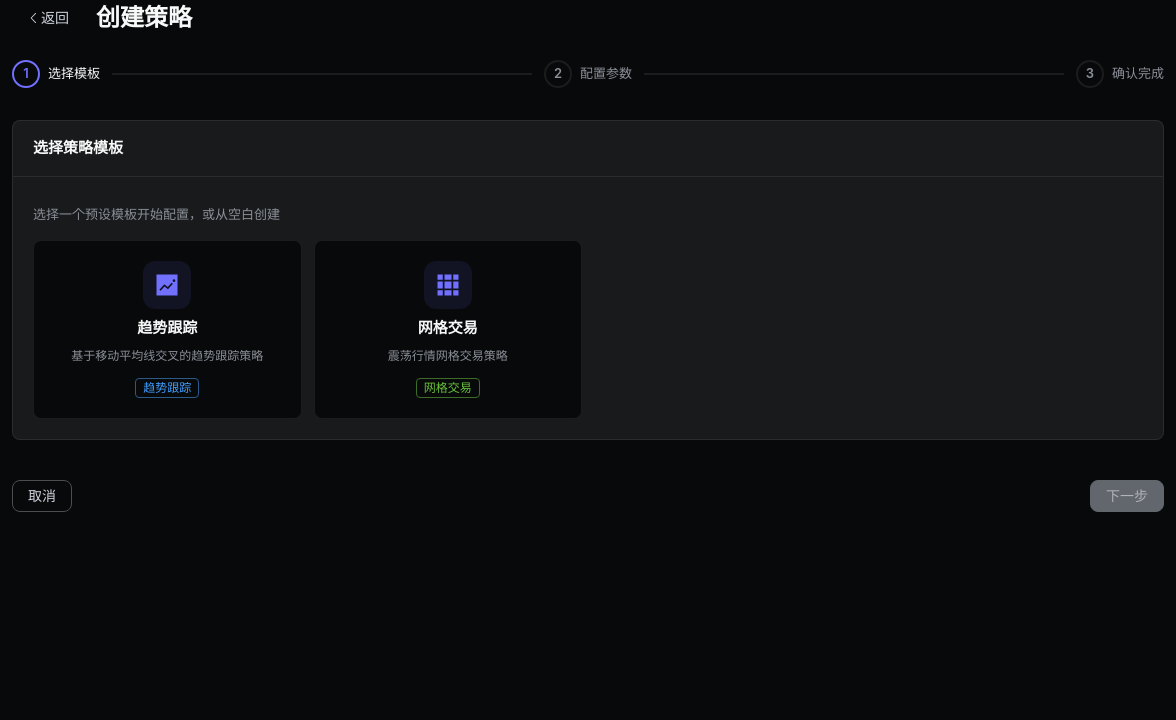
Test case: StrategyCreateView › displays parameter form after selecting a template and advancing to step 2
Click the element with class "template-card" showing "趋势跟踪 基于移动平均线交叉的趋势跟踪策略 趋势跟踪" at (167, 330), box [33,240,302,420]
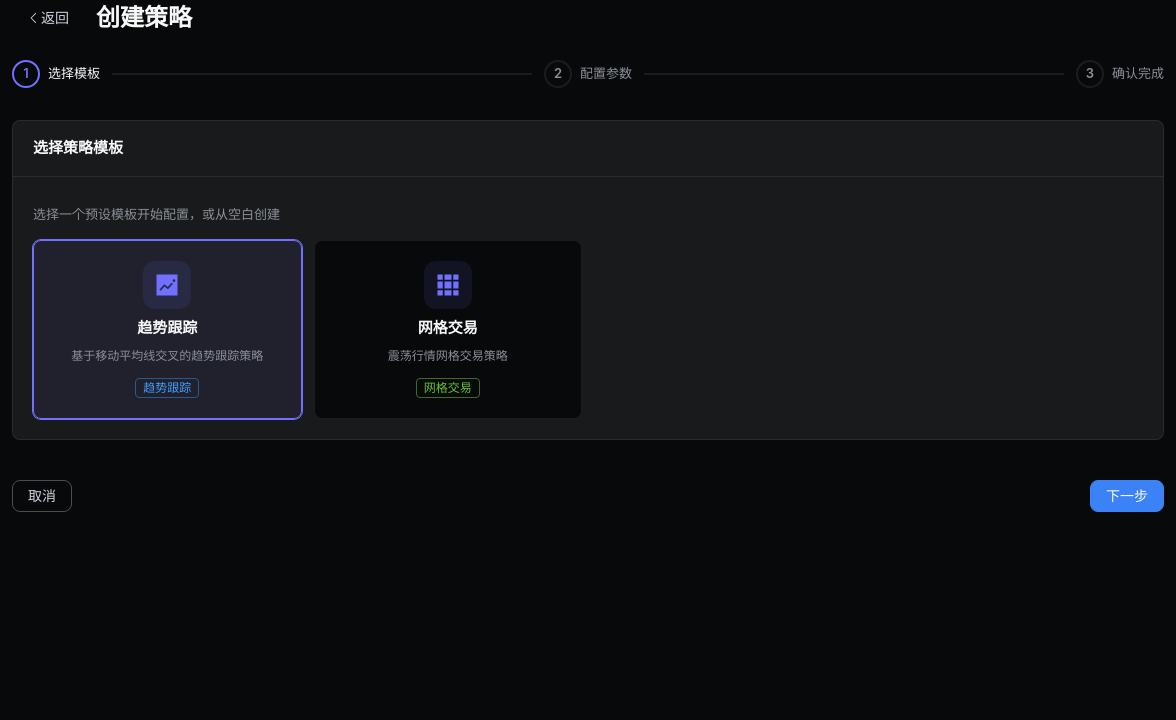
Click the button "下一步" at (1127, 496), box [1090,480,1164,512]
(page scrolled)
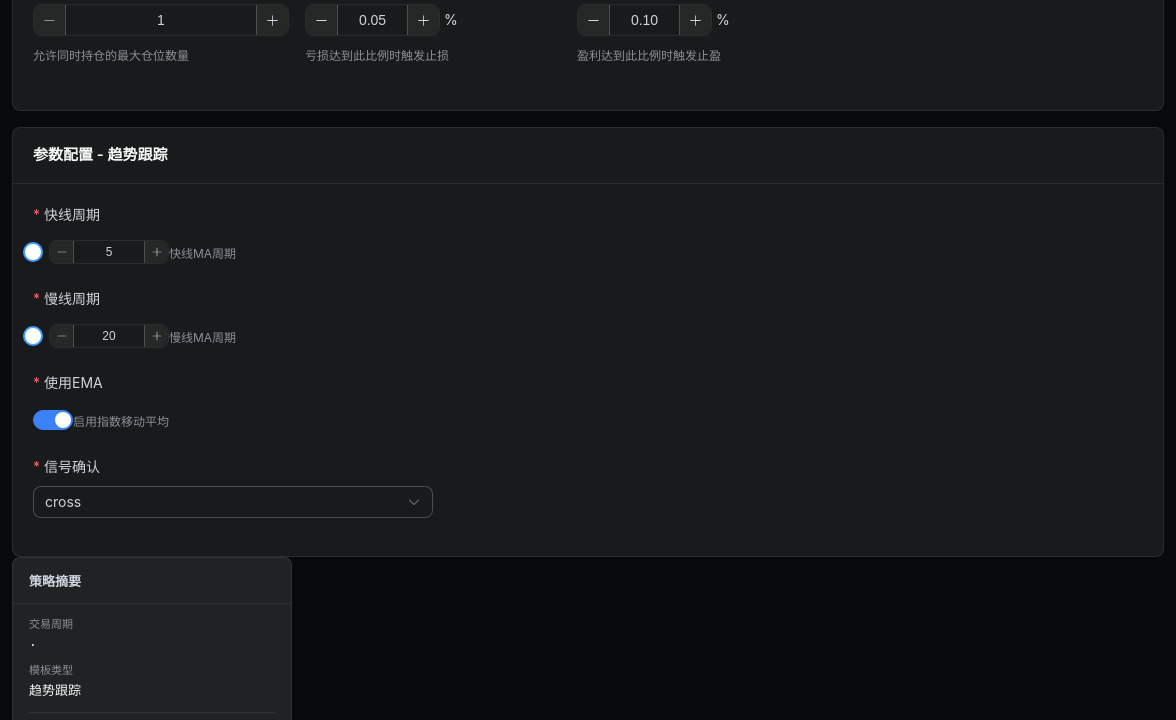
Result: the form "快线周期 快线MA周期 慢线周期 慢线MA周期 使用EMA 启用指数移动平均 信号确认" is shown at [23,206,433,518]
Result: the text "快线周期" is shown at [33,204,112,226]
Result: the text "慢线周期" is shown at [33,288,112,310]
